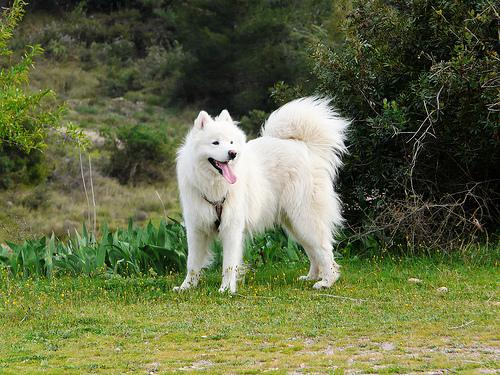dog-samoyed: (189, 107, 241, 183)
